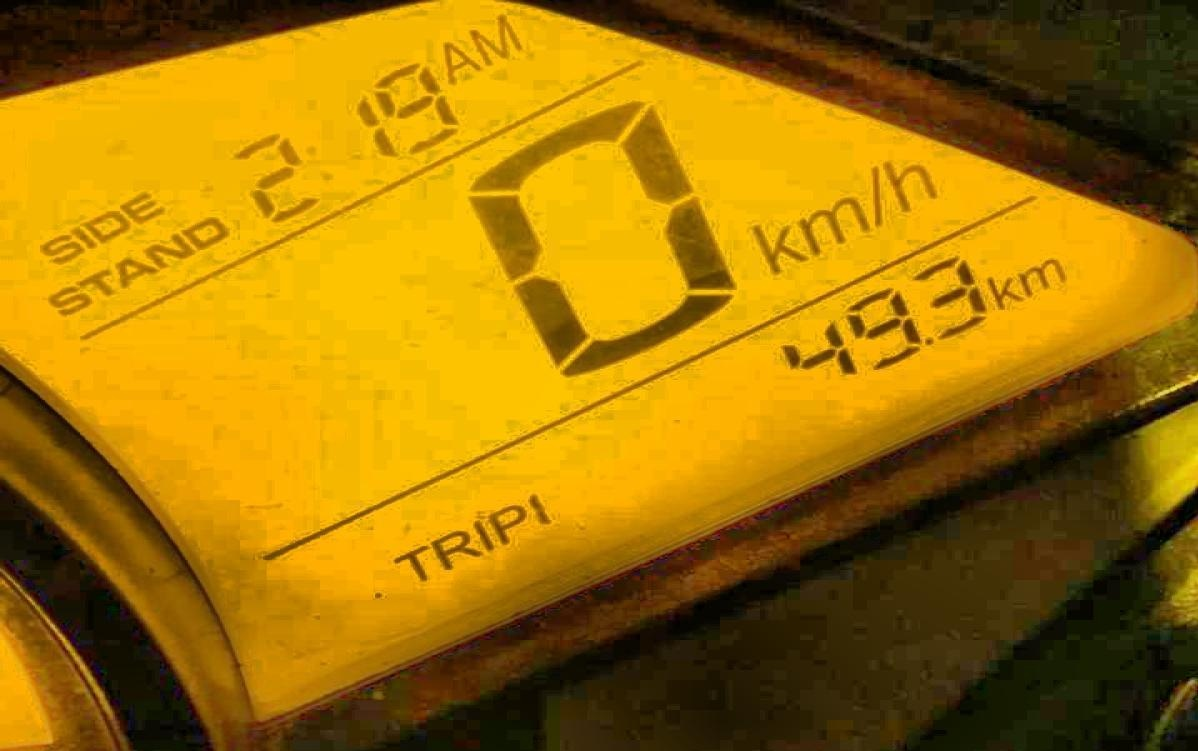0: (453, 90, 741, 381)
1: (341, 95, 400, 161), (525, 488, 556, 527)
2: (231, 126, 321, 222)
3: (913, 251, 988, 341)
4: (773, 317, 853, 384)
9: (371, 60, 460, 154), (841, 285, 921, 370)
X: (801, 193, 868, 252), (879, 156, 938, 215), (746, 215, 803, 272), (466, 13, 525, 67), (433, 36, 478, 82), (1018, 254, 1066, 297), (428, 528, 473, 571), (143, 232, 191, 268), (388, 541, 429, 583), (181, 216, 231, 250), (81, 207, 128, 243), (980, 270, 1021, 311), (488, 501, 524, 547), (120, 186, 160, 226), (864, 162, 888, 227), (36, 232, 80, 267), (45, 284, 91, 317), (111, 252, 153, 287), (468, 516, 493, 557), (79, 269, 113, 299), (68, 223, 99, 251)
